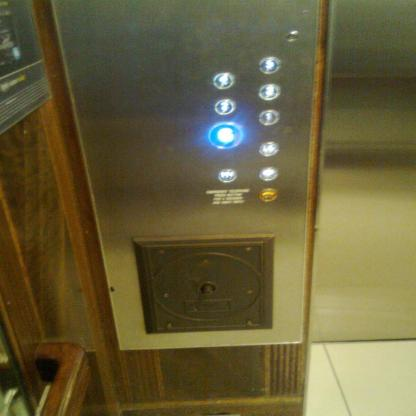1: (254, 107, 281, 129)
2: (211, 95, 238, 117)
LG: (256, 138, 281, 159)
blur: (205, 121, 246, 150), (256, 54, 284, 76), (209, 70, 237, 92), (255, 82, 282, 103), (255, 164, 281, 185), (254, 186, 280, 206)
close: (214, 165, 240, 185)
